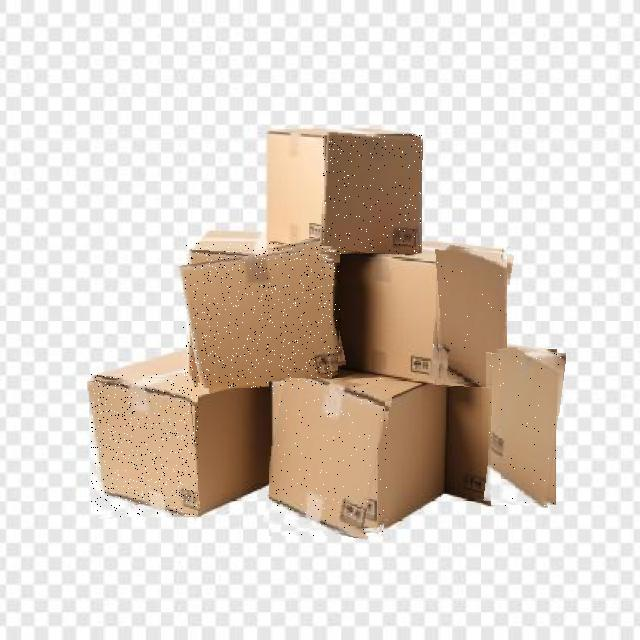BoxFace: (183, 243, 340, 388), (270, 378, 388, 536), (90, 374, 198, 517), (321, 134, 422, 254), (488, 348, 561, 506), (434, 247, 509, 387)
